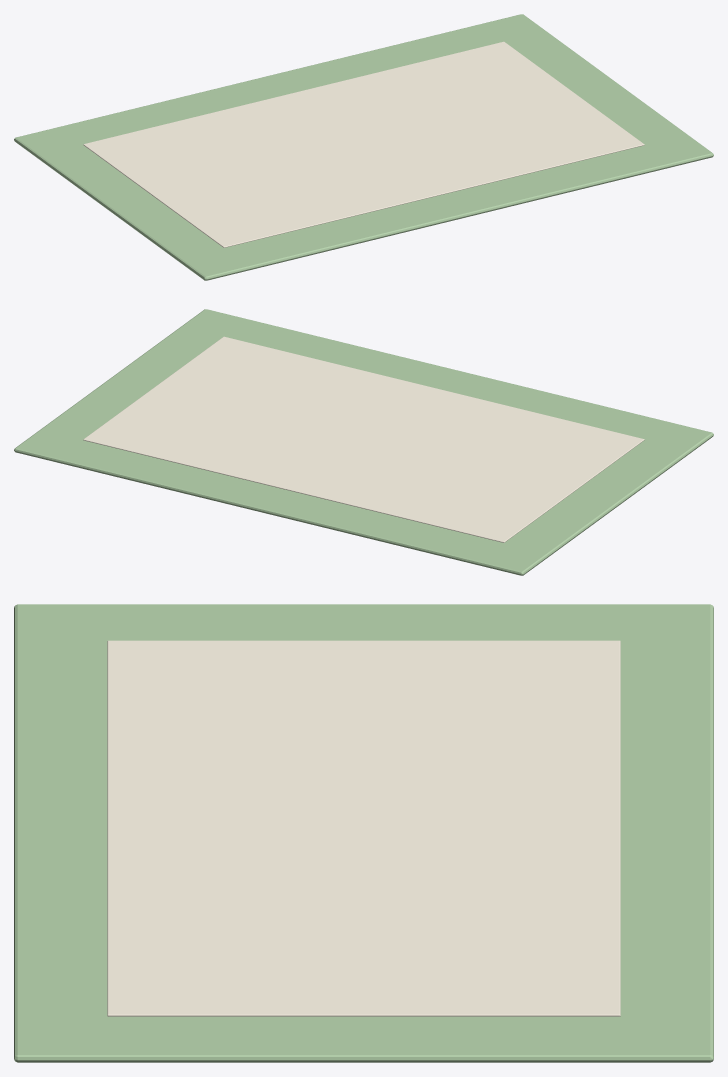
The model's file is cozy-home-interiors-living-rug-51629599.glb.
3 views of the same model, one above another, from view 1: azimuth 30°, elevation 25°; view 2: azimuth 150°, elevation 25°; view 3: azimuth 270°, elevation 25° (orthographic). The views are drawn at different scales.
Visible parts, largest first — view 1: living-rug; view 2: living-rug; view 3: living-rug.
Boxes of the visible parts, x1,y1,x2,y2 form: living-rug: (14, 14, 713, 280); living-rug: (14, 309, 713, 575); living-rug: (14, 604, 713, 1062).
Bounding box in the file's own units: 2.3 × 0.023 × 1.5.
